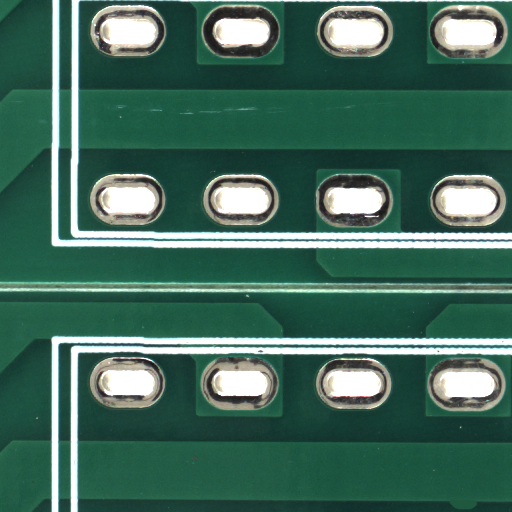Spur: (463, 505, 495, 512)
